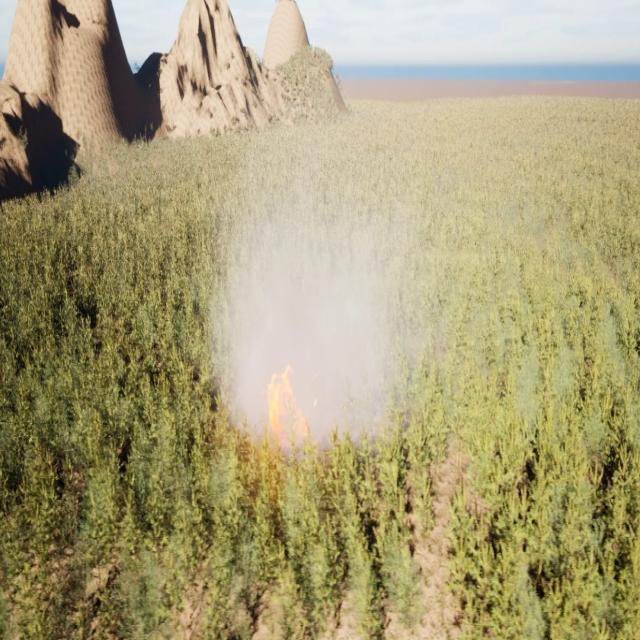fire: (264, 359, 308, 438)
smoke: (207, 159, 430, 453)
